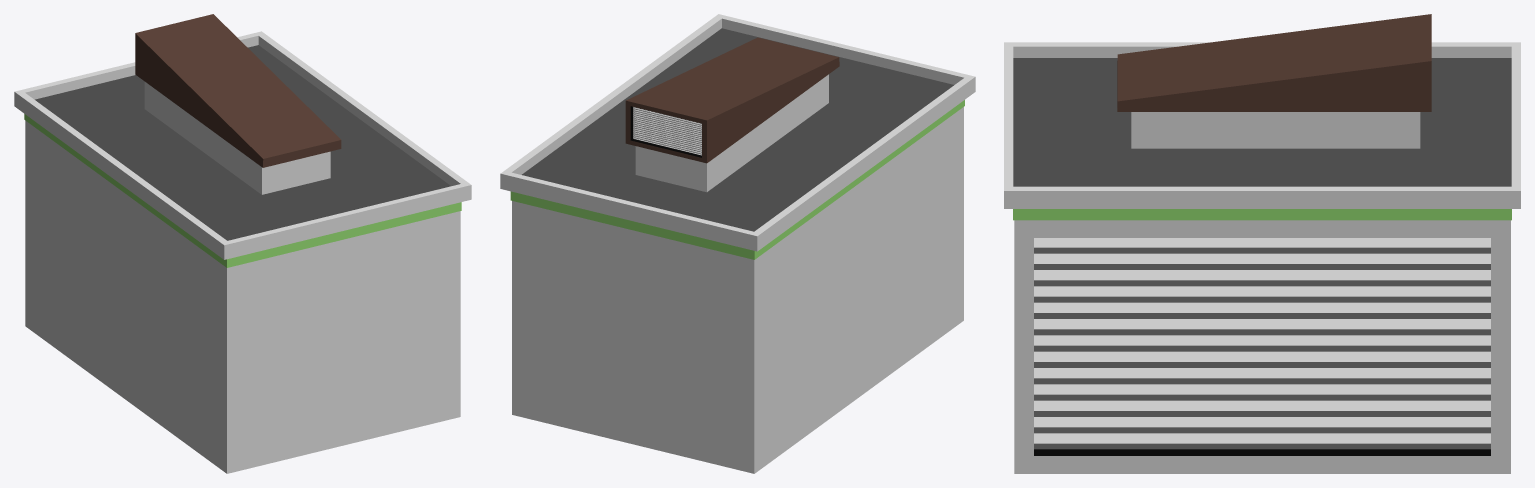
Rendered from Garage.fbx.
The picture shows the model from 3 angles, left to right: view 1: azimuth 30°, elevation 25°; view 2: azimuth 150°, elevation 25°; view 3: azimuth 270°, elevation 25°; orthographic projection. The views are drawn at different scales.
Visible parts, largest first — view 1: Garage; view 2: Garage, Куб; view 3: Garage, GarageDoor.
Boxes of the visible parts, bbox=[...] form: Garage: bbox=[14, 14, 471, 473]; Garage: bbox=[500, 14, 975, 473]; Куб: bbox=[633, 107, 701, 155]; Garage: bbox=[1004, 14, 1520, 473]; GarageDoor: bbox=[1034, 238, 1490, 449].
Bounding box in the file's own units: 721 × 830 × 1060.
